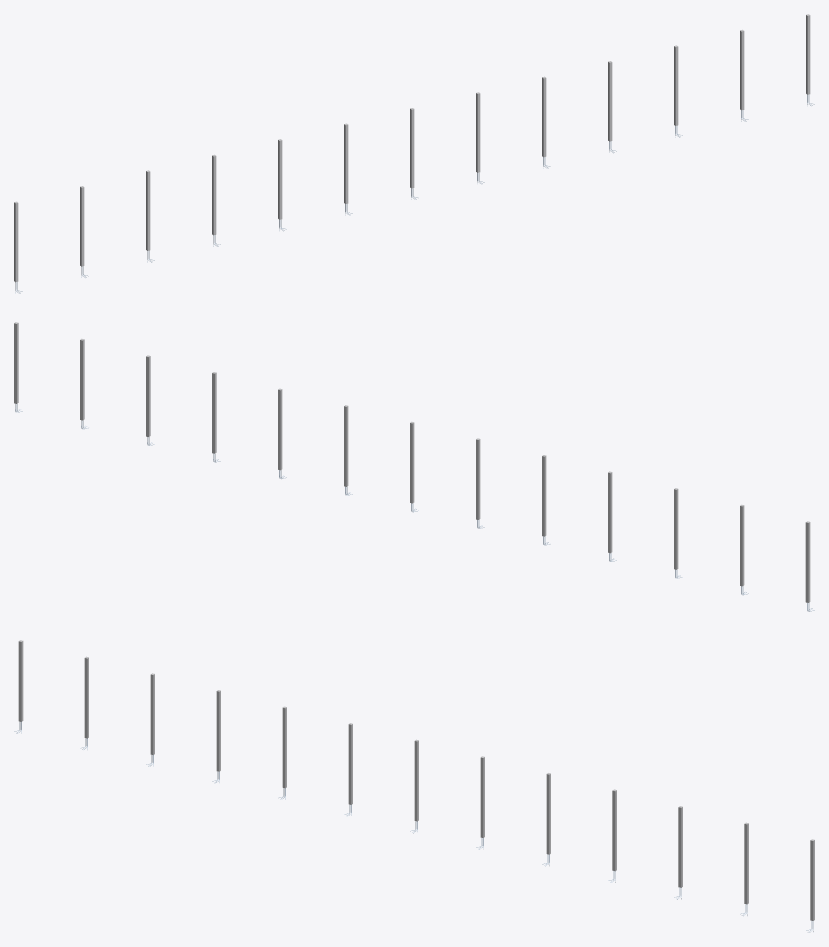
The picture shows the model from 3 angles, top to bottom: view 1: azimuth 30°, elevation 25°; view 2: azimuth 150°, elevation 25°; view 3: azimuth 330°, elevation 25°; orthographic projection.
Bounding box in the file's own units: 36.35 × 3.86 × 0.8635.
